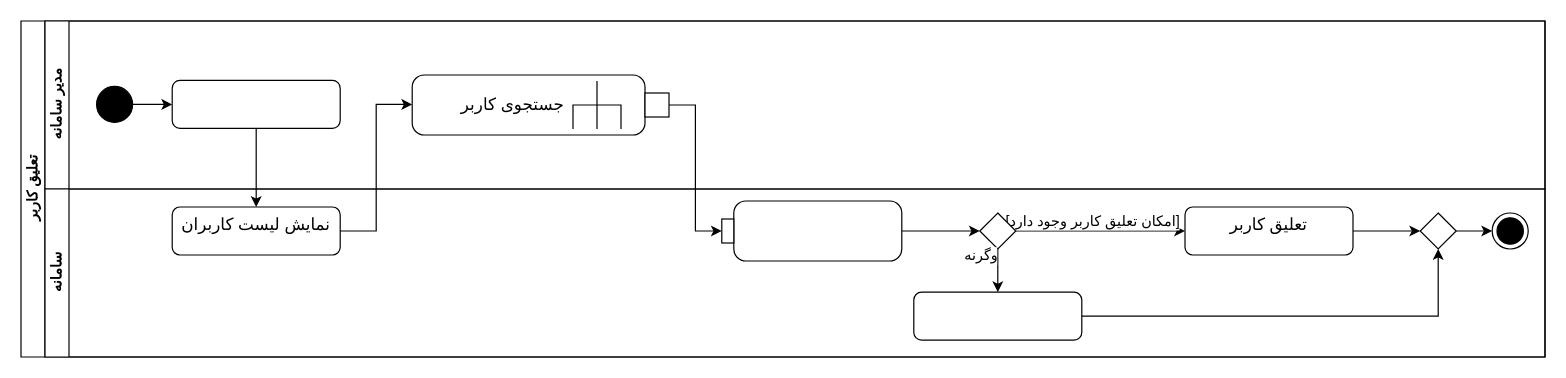
Image size: 1566x378. Some labels were removed from this diagram. Here are the shapes that lost their labels. From the top down, the centre of each, then its label:
the point at 255,103: درخواست تعلیق کاربر
the point at 811,230: بررسی اطلاعات
the point at 997,315: نمایش علت ناتوانی در تعلیق کاربر
